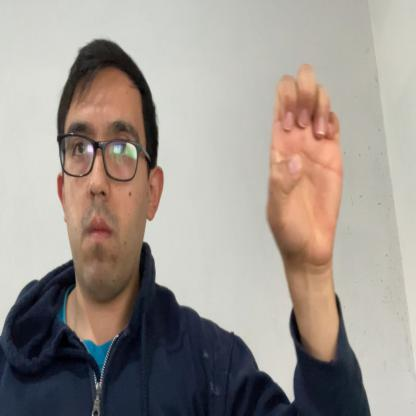E: (265, 60, 344, 270)
